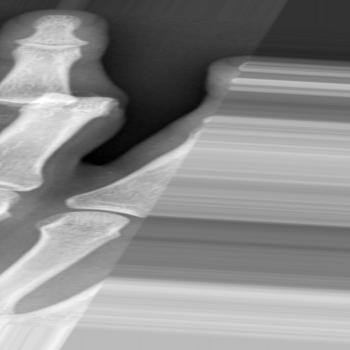Fracture: (0, 81, 128, 124)
